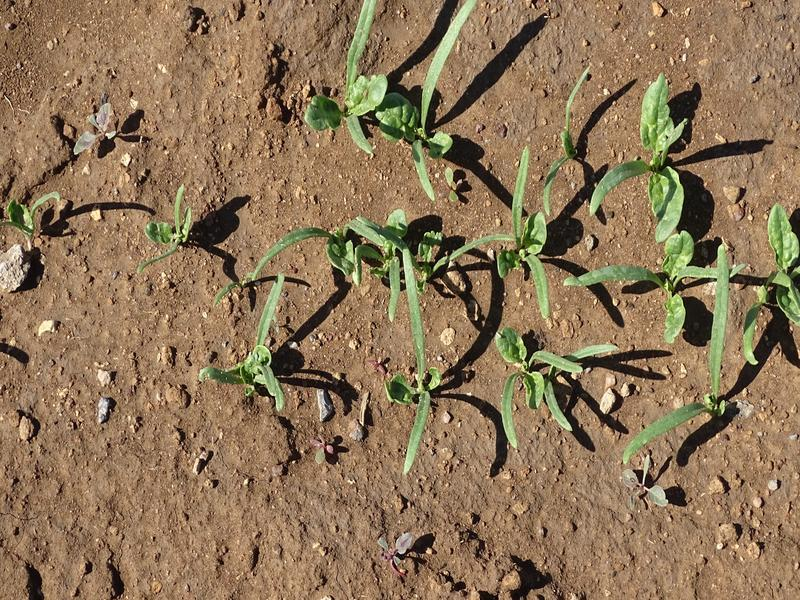Espinaca: (247, 24, 797, 465), (129, 184, 207, 275), (2, 194, 62, 243)
